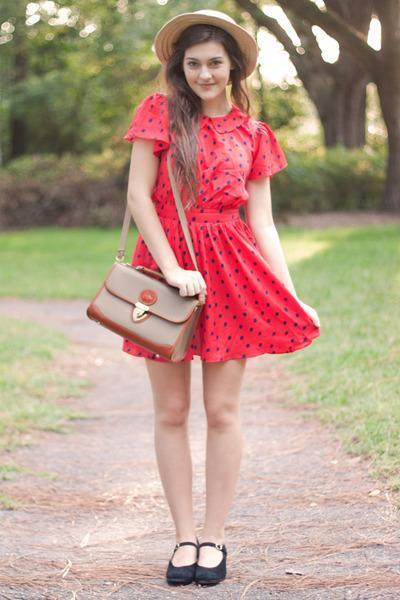bag: (87, 263, 206, 371)
dress: (120, 94, 318, 363)
hat: (147, 0, 267, 74)
shoe: (179, 539, 226, 586)
